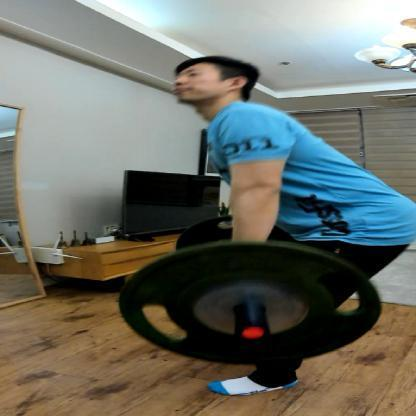barbell: (119, 216, 382, 366)
